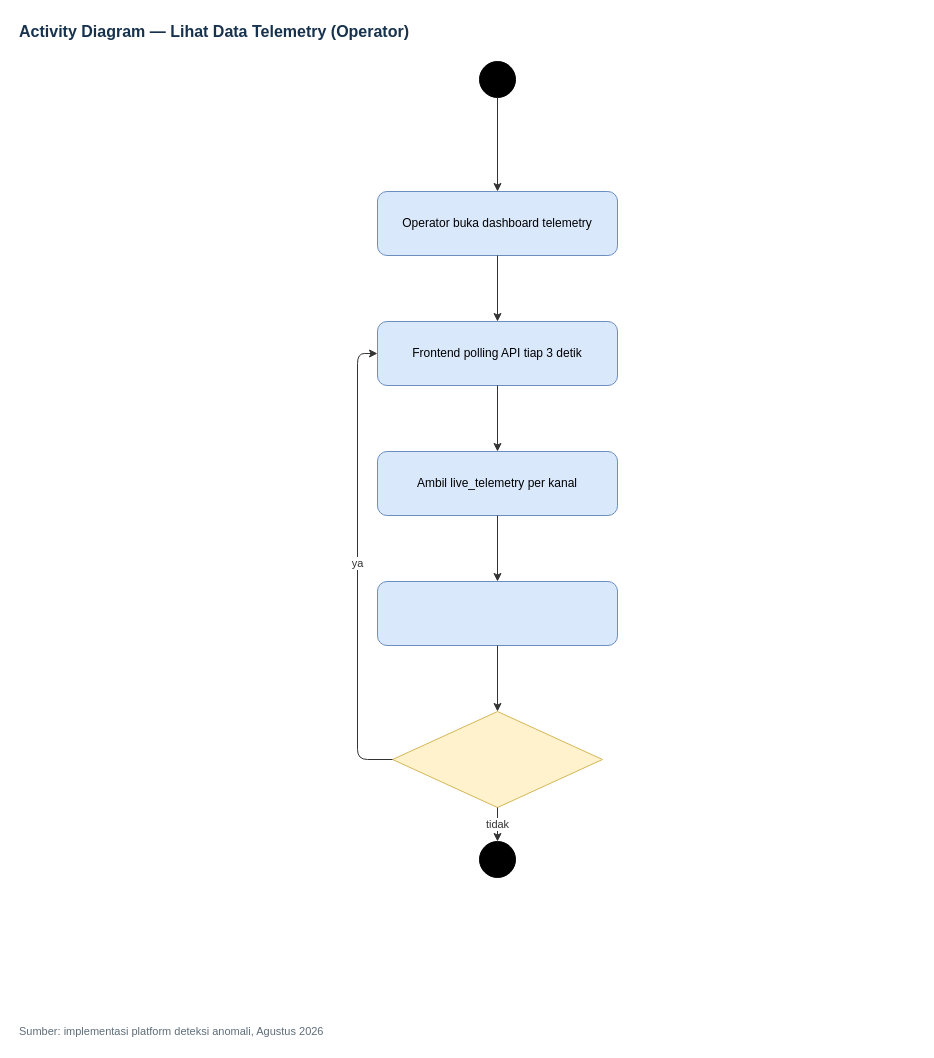
Image size: 934x1058. Some labels were removed from this diagram. Here are the shapes that lost their labels. From the top down, the centre of each, then its label:
At pixel 497 613: "Tampilkan grafik suhu & kelembapan".
At pixel 497 759: "Lanjut memantau?".
